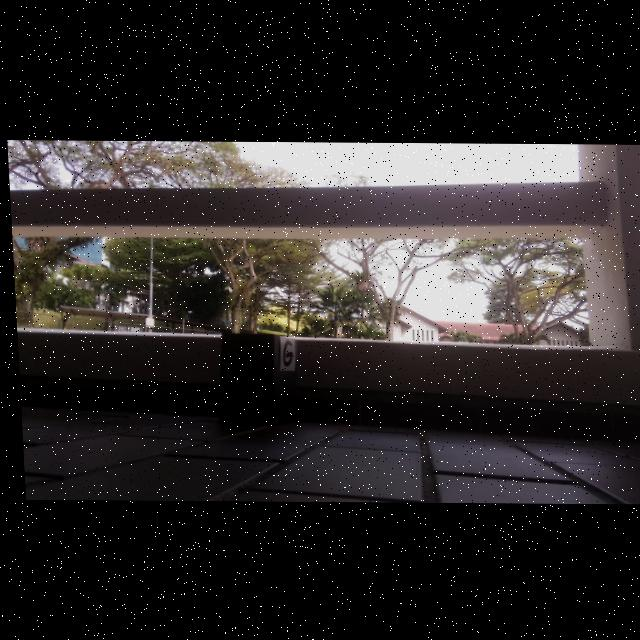G: (279, 340, 288, 366)
